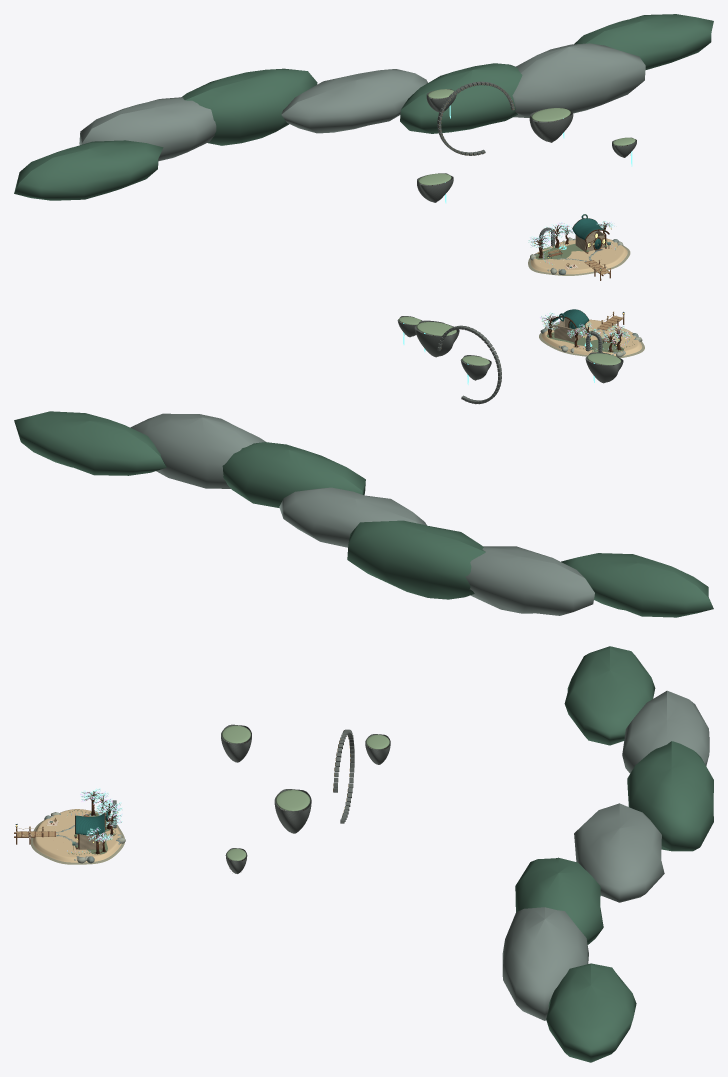
File: withdrawn-sanctuary.glb
3 views of the same model, one above another, from view 1: azimuth 30°, elevation 25°; view 2: azimuth 150°, elevation 25°; view 3: azimuth 270°, elevation 25° (orthographic). The views are drawn at different scales.
Visible parts, largest first — view 1: assembled-coastal-pine, assembled-slate-stone, harbor_floating_archipelago__ancient-limestone, assembled-warm-shell-sand, harbor_floating_archipelago__velvet-moss; view 2: assembled-coastal-pine, assembled-slate-stone, harbor_floating_archipelago__ancient-limestone, assembled-warm-shell-sand, harbor_floating_archipelago__velvet-moss; view 3: assembled-coastal-pine, assembled-slate-stone, harbor_floating_archipelago__ancient-limestone, assembled-warm-shell-sand, harbor_floating_archipelago__velvet-moss.
Part boxes in pixels (<box>): assembled-coastal-pine: <box>14,14,713,242</box>; assembled-slate-stone: <box>79,43,645,274</box>; harbor_floating_archipelago__ancient-limestone: <box>417,81,636,202</box>; assembled-warm-shell-sand: <box>530,238,627,274</box>; harbor_floating_archipelago__velvet-moss: <box>418,89,635,185</box>; assembled-coastal-pine: <box>14,328,713,617</box>; assembled-slate-stone: <box>130,326,638,615</box>; harbor_floating_archipelago__ancient-limestone: <box>397,316,623,404</box>; assembled-warm-shell-sand: <box>541,319,642,356</box>; harbor_floating_archipelago__velvet-moss: <box>398,316,621,365</box>; assembled-coastal-pine: <box>72,646,713,1062</box>; assembled-slate-stone: <box>44,690,709,1020</box>; harbor_floating_archipelago__ancient-limestone: <box>221,724,390,873</box>; assembled-warm-shell-sand: <box>33,809,121,862</box>; harbor_floating_archipelago__velvet-moss: <box>222,725,389,860</box>.
Bounding box in the file's own units: 168 × 31.48 × 124.
Materials: 35 (8 with a texture image).
